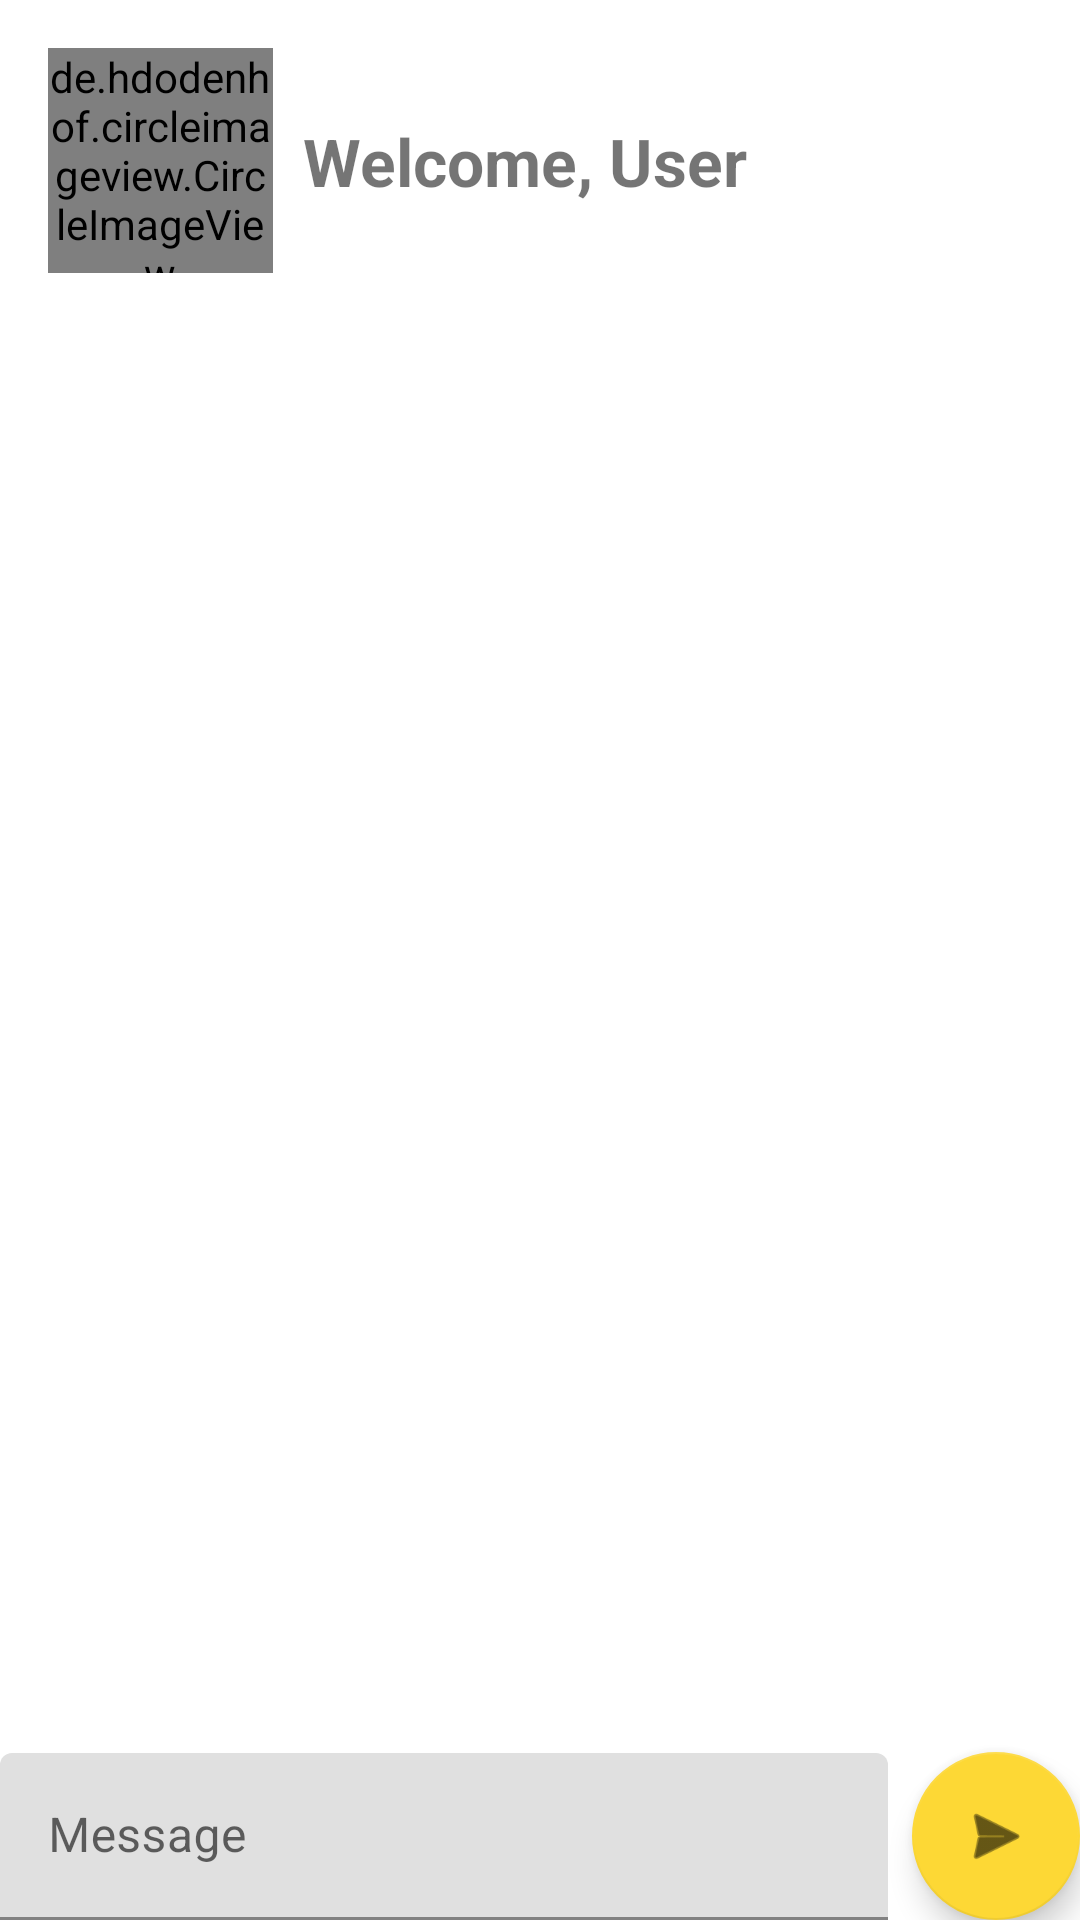

Icons on this 1080 × 1920 Android screen, each with the point to tap as (x,y):
send: (996,1836)
